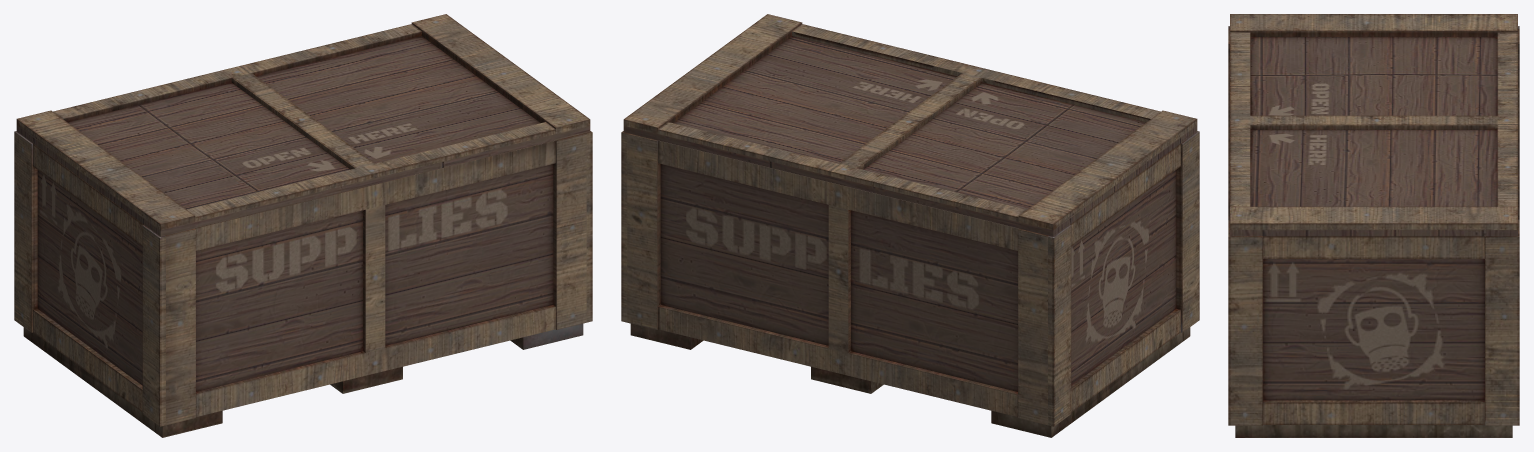
Rendered from supply_crate_open_animation.glb.
3 renders of one model, left to right at view 1: azimuth 30°, elevation 25°; view 2: azimuth 150°, elevation 25°; view 3: azimuth 270°, elevation 25°, orthographic.
Parts seen in each view (by area): view 1: Crate_Body, Crate_Lid; view 2: Crate_Body, Crate_Lid; view 3: Crate_Lid, Crate_Body.
Part boxes in pixels (x1,y1,x2,y2): Crate_Body: [14, 131, 592, 437]; Crate_Lid: [16, 14, 590, 236]; Crate_Body: [621, 131, 1199, 437]; Crate_Lid: [623, 14, 1197, 236]; Crate_Lid: [1230, 14, 1517, 236]; Crate_Body: [1228, 26, 1519, 437].
Bounding box in the file's own units: 0.72 × 0.3445 × 0.42.
Materials: 1 (1 with a texture image).
